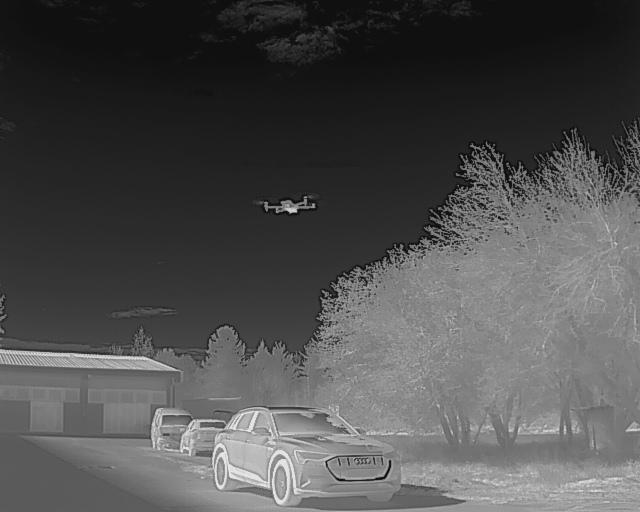drone: (251, 187, 325, 224)
